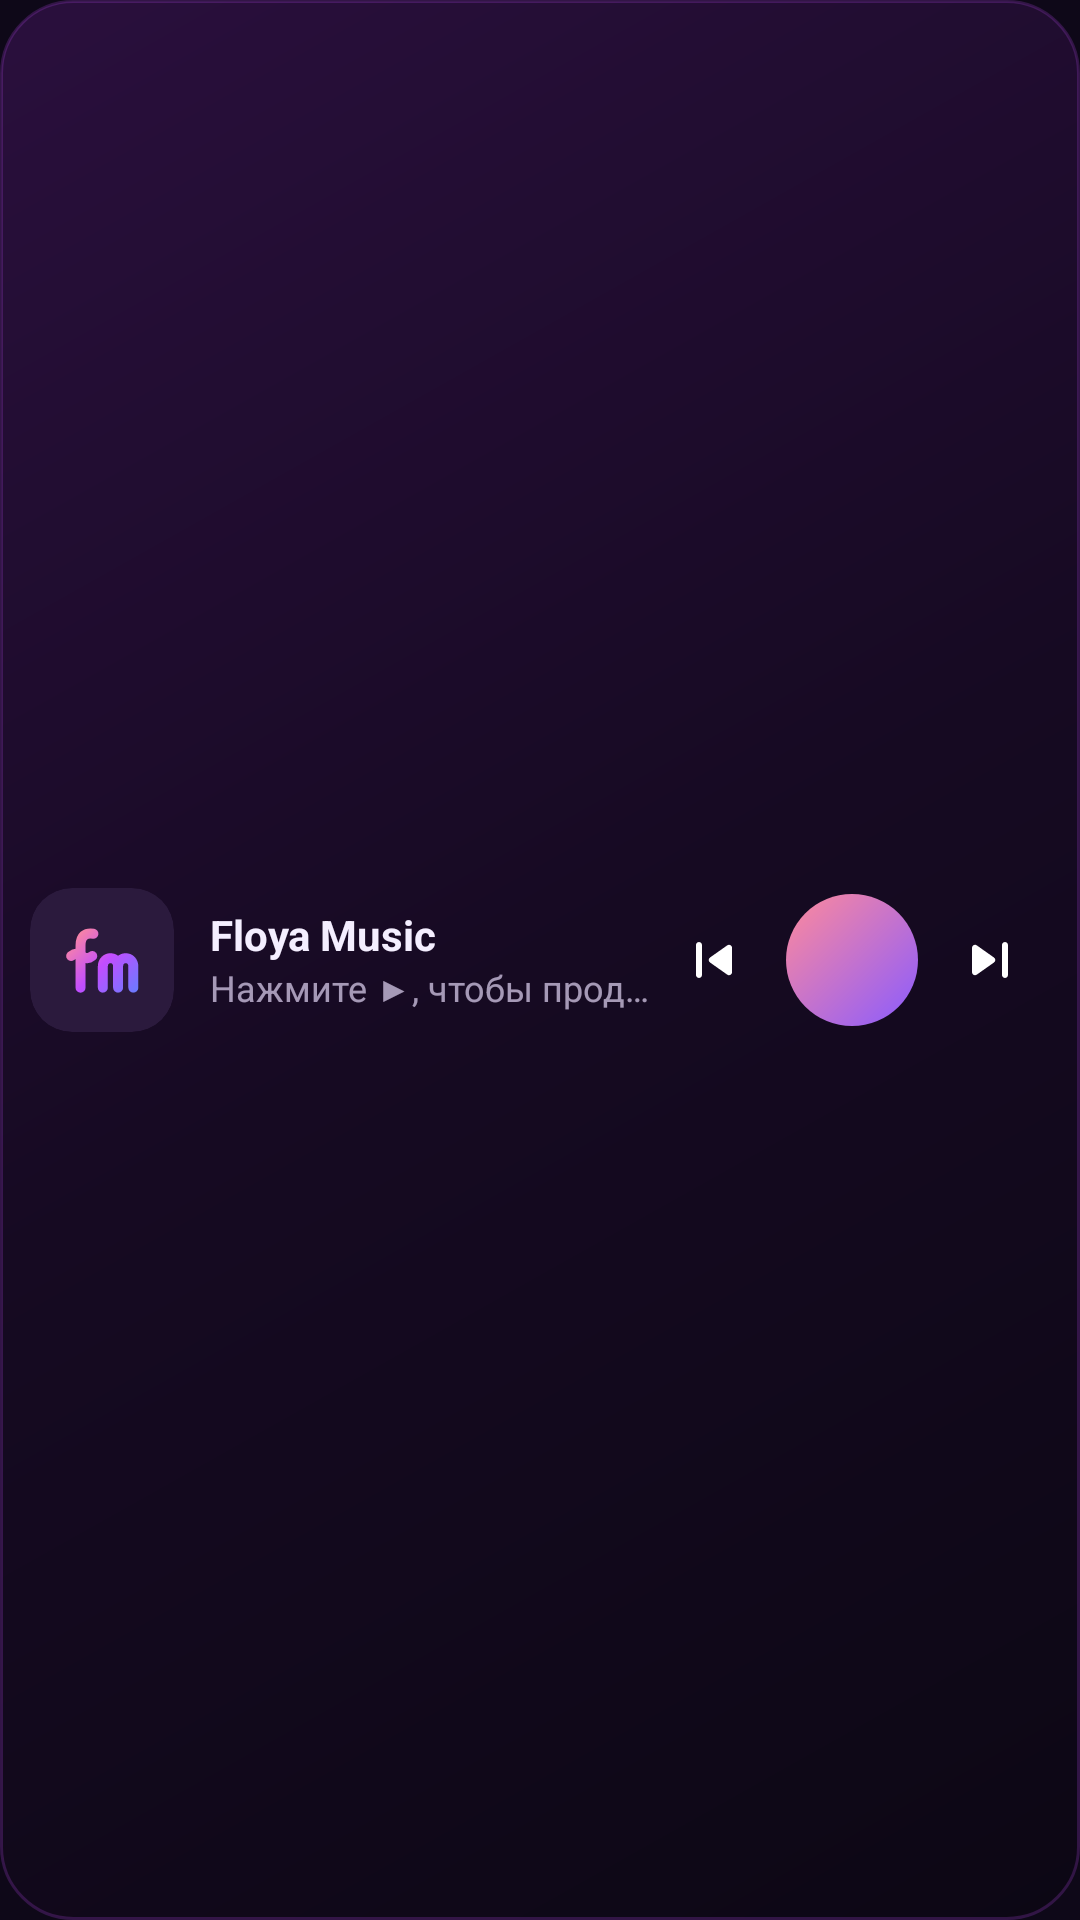

Locate icon controls on the screen. Image size 1080*1920, boxes as [left=x1, top=y1, right=x2, bottom=y2].
Предыдущий: [left=696, top=942, right=732, bottom=978]
Следующий: [left=972, top=942, right=1008, bottom=978]
